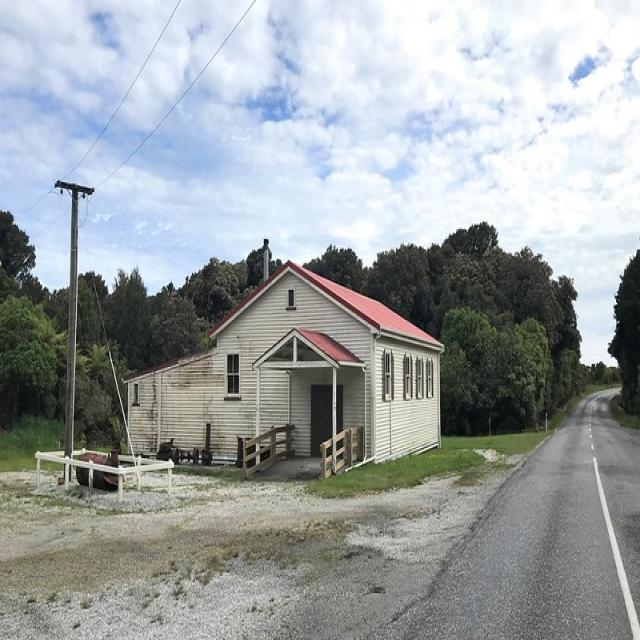building: (117, 260, 446, 490)
